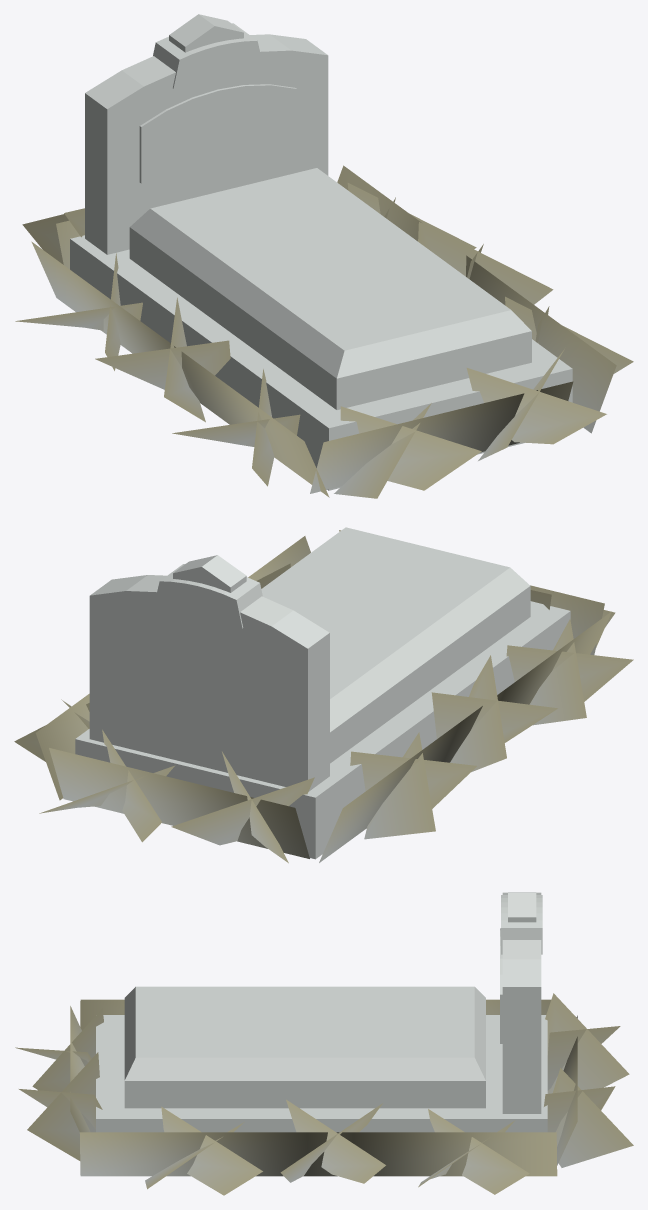
3 renders of one model, top to bottom at view 1: azimuth 30°, elevation 25°; view 2: azimuth 150°, elevation 25°; view 3: azimuth 270°, elevation 25°, orthographic. The views are drawn at different scales.
Parts seen in each view (by area): view 1: G:\FFXIV-MapTools\exports\n4f3\bg\ex3\01_nvt_n4\fld\n4f3\bgp (×2); view 2: G:\FFXIV-MapTools\exports\n4f3\bg\ex3\01_nvt_n4\fld\n4f3\bgp (×2); view 3: G:\FFXIV-MapTools\exports\n4f3\bg\ex3\01_nvt_n4\fld\n4f3\bgp (×2).
Part boxes in pixels (box(x1,y1,x2,y2)): G:\FFXIV-MapTools\exports\n4f3\bg\ex3\01_nvt_n4\fld\n4f3\bgp (×2): box(15, 14, 633, 498); G:\FFXIV-MapTools\exports\n4f3\bg\ex3\01_nvt_n4\fld\n4f3\bgp (×2): box(14, 527, 633, 863); G:\FFXIV-MapTools\exports\n4f3\bg\ex3\01_nvt_n4\fld\n4f3\bgp (×2): box(15, 892, 633, 1195).
Size of the model in its own units: 2.36 by 1.43 by 3.43.
